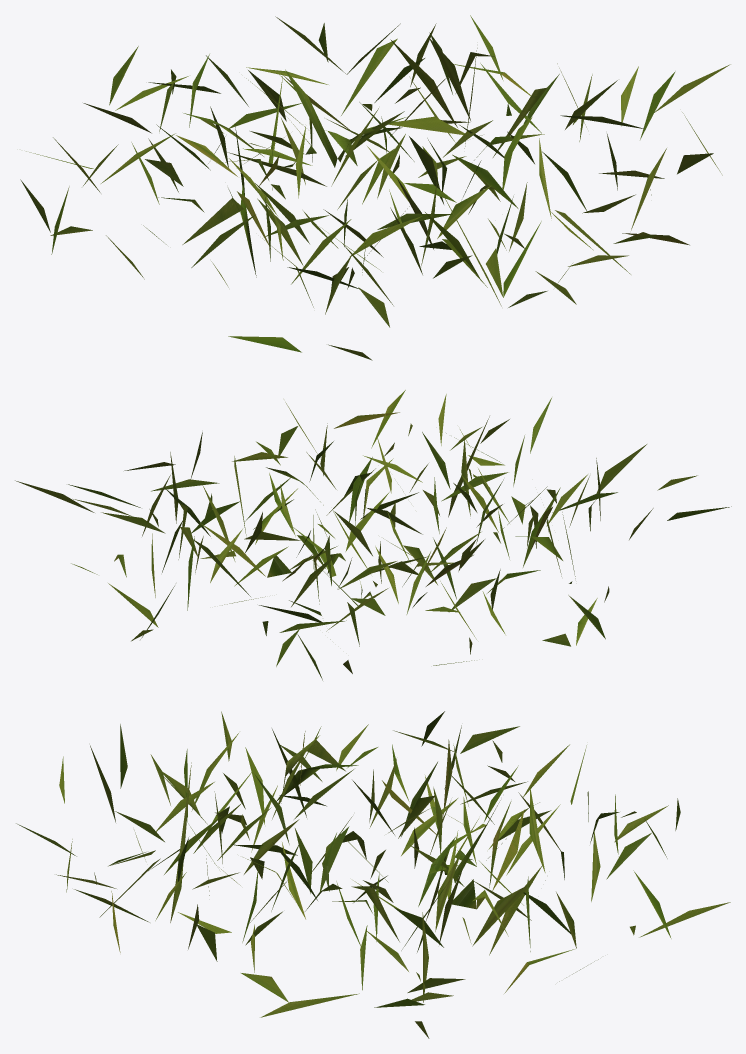
Rendered from Tuft_Tall.glb.
3 renders of one model, top to bottom at view 1: azimuth 30°, elevation 25°; view 2: azimuth 150°, elevation 25°; view 3: azimuth 270°, elevation 25°, orthographic. The views are drawn at different scales.
Visible parts, largest first — view 1: Tuft_Tall; view 2: Tuft_Tall; view 3: Tuft_Tall.
Boxes of the visible parts, x1,y1,x2,y2 form: Tuft_Tall: (20, 15, 730, 360); Tuft_Tall: (15, 390, 731, 680); Tuft_Tall: (16, 711, 730, 1038).
Size of the model in its own units: 1.48 by 0.3 by 1.44.
Materials: 1 (1 with a texture image).
